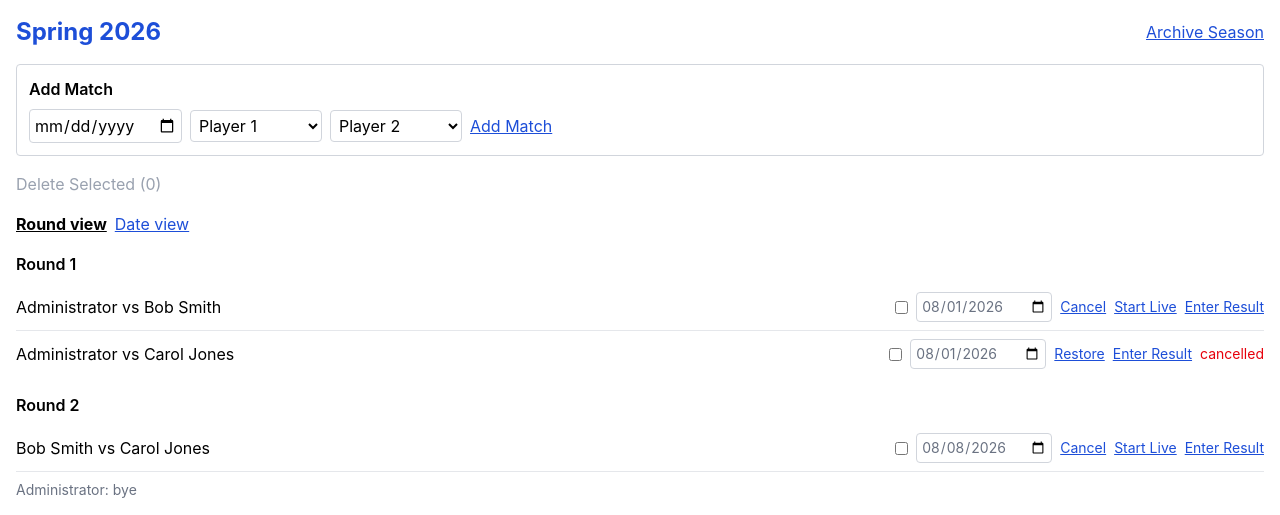
SeasonMatches Date view › filters to only that date's matches when a date is clicked
The width and height of the screenshot is (1280, 515).
Expected: the heading "Spring 2026" is shown, [16,16,161,48]
Click the button "Date view" at coordinates (152, 224), box [115,212,189,236]
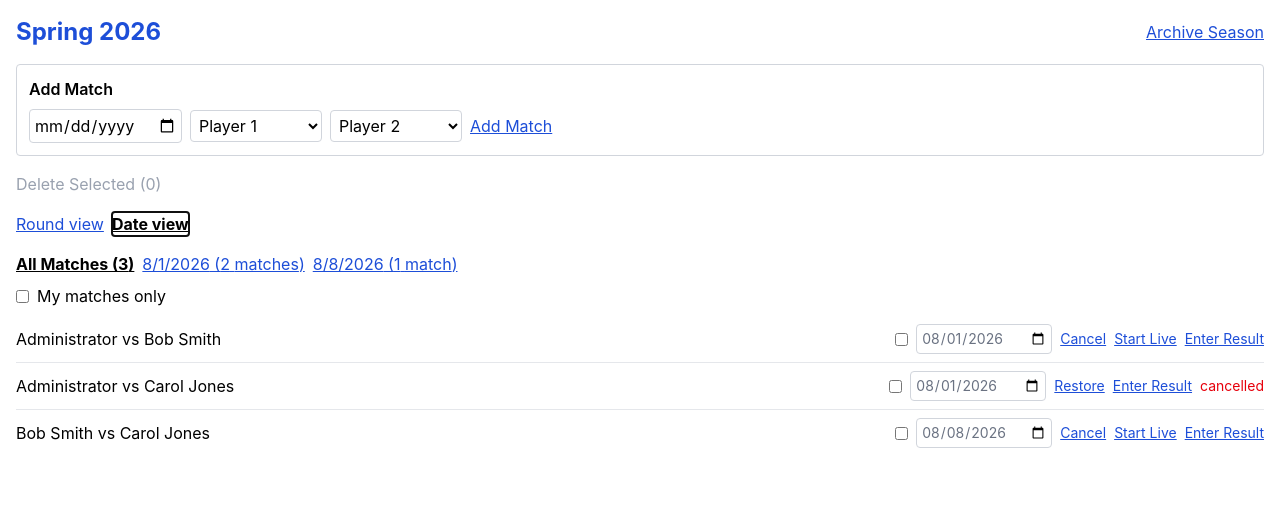
Click the button "8/8/2026 (1 match)" at coordinates (385, 264), box [313,252,458,276]
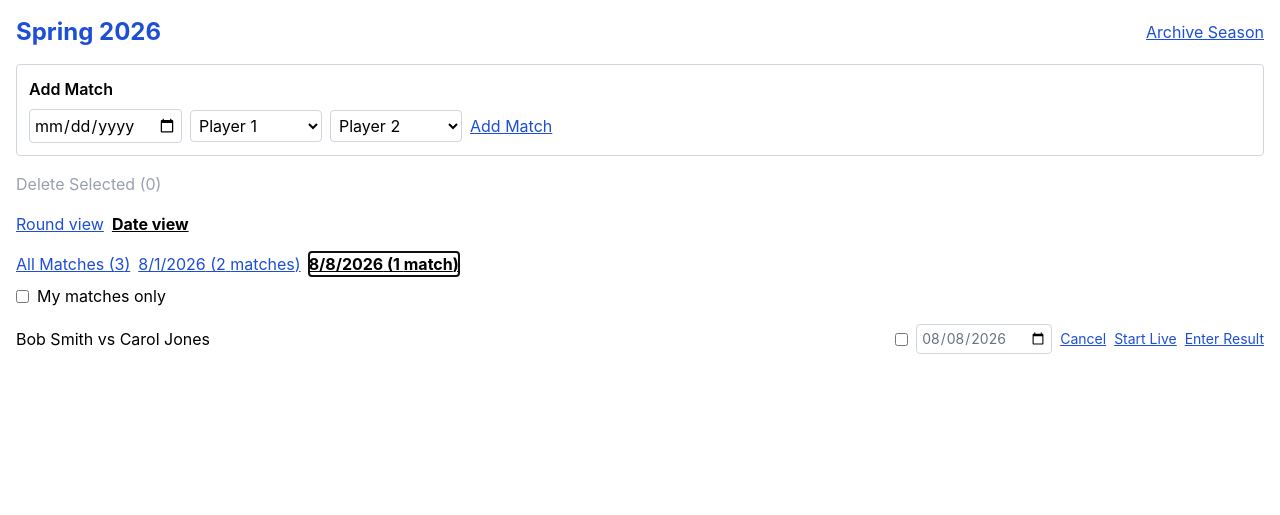
Expected: the text "Bob Smith vs Carol Jones" is shown, [16,327,210,351]
Expected: the text "Administrator vs Bob Smith" is gone
Expected: the text "Administrator vs Carol Jones" is gone
